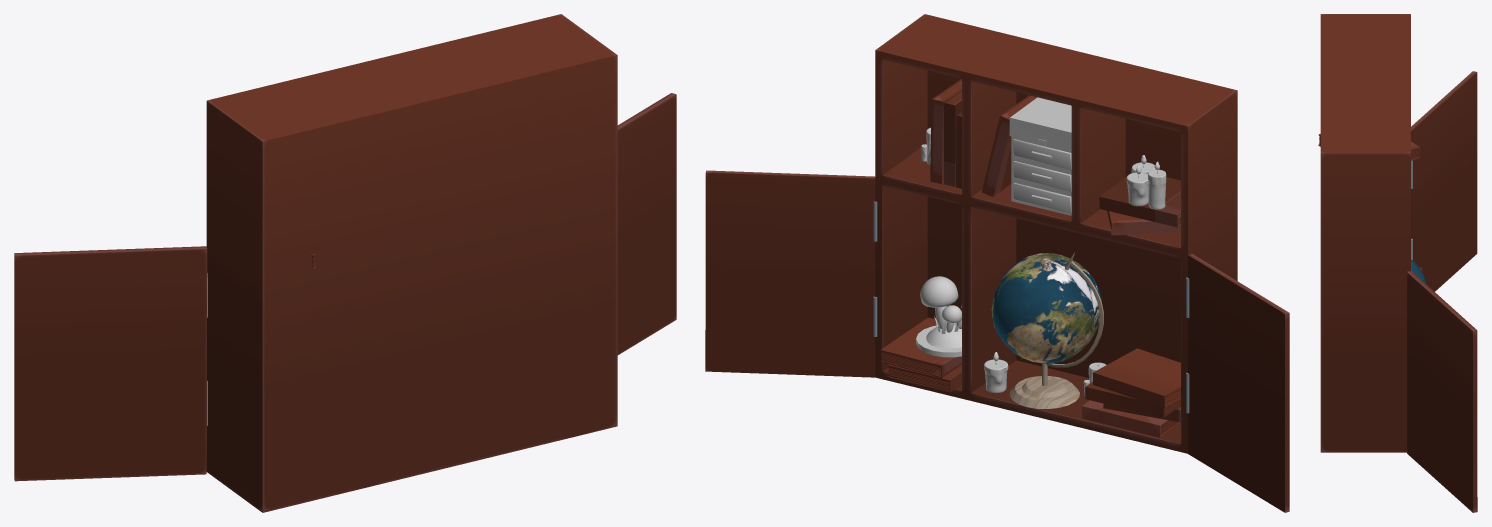
Rendered from bookshelf.fbx.
3 views of the same model, side by side, from view 1: azimuth 30°, elevation 25°; view 2: azimuth 150°, elevation 25°; view 3: azimuth 270°, elevation 25° (orthographic). The views are drawn at different scales.
Visible parts, largest first — view 1: shelf.002; view 2: shelf.002, globe, box_jewerl, book.115, mushrooms, book.121, book.110, book.119, book.112, book.117, book.116, book.114 (+5 smaller); view 3: shelf.002.
Part boxes in pixels (x1,y1,x2,y2): shelf.002: (14, 14, 676, 512); shelf.002: (705, 14, 1289, 512); globe: (991, 252, 1103, 408); box_jewerl: (1009, 97, 1071, 215); book.115: (1093, 348, 1180, 408); mushrooms: (916, 276, 961, 357); book.121: (880, 317, 961, 377); book.110: (1099, 173, 1180, 227); book.119: (982, 95, 1036, 196); book.112: (1082, 400, 1180, 437); book.117: (930, 79, 961, 184); book.116: (943, 89, 961, 186); book.114: (1085, 381, 1180, 417); shelf.002: (1320, 14, 1477, 512).
Bounding box in the file's own units: 187 × 100 × 48.19.
